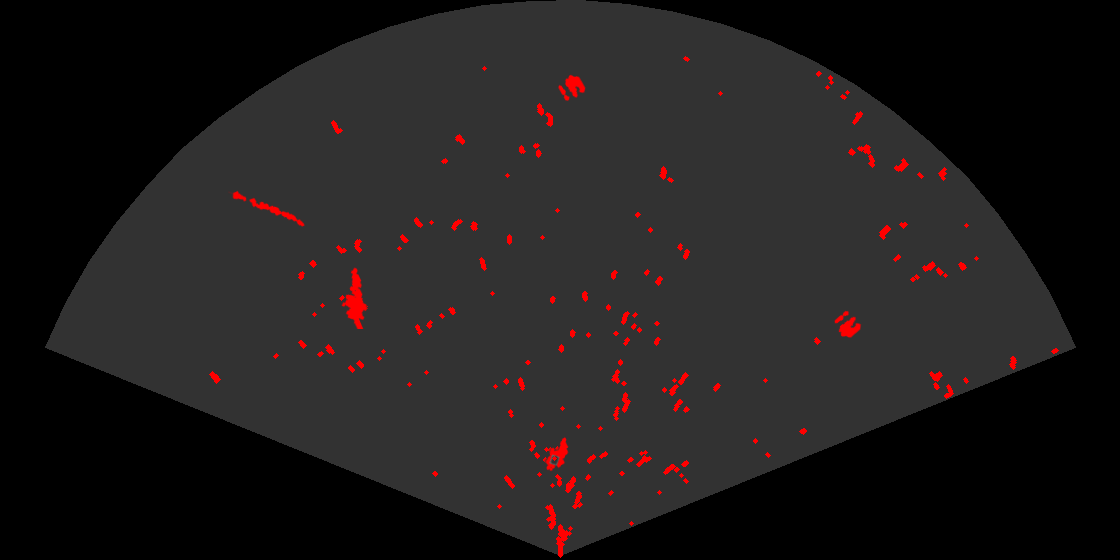AUV: (544, 435, 570, 473)
ball: (833, 309, 863, 340), (557, 73, 587, 103)
chain: (228, 189, 307, 228)
frogman: (340, 266, 369, 329)
